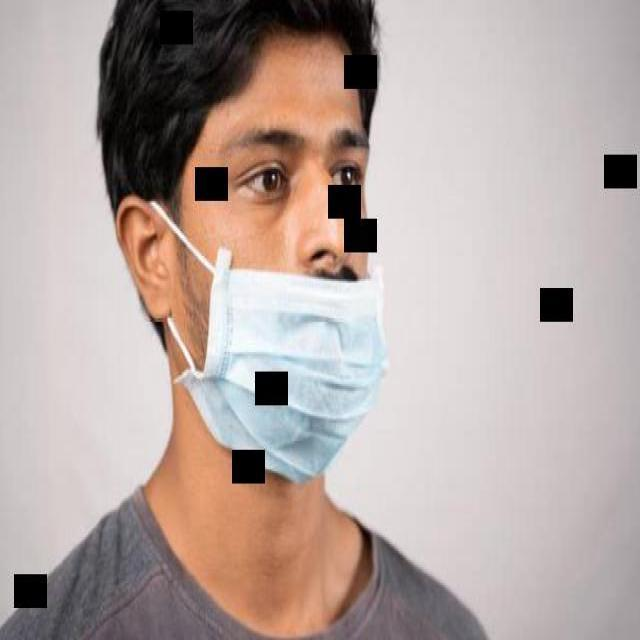hairnet: (154, 196, 396, 490)
